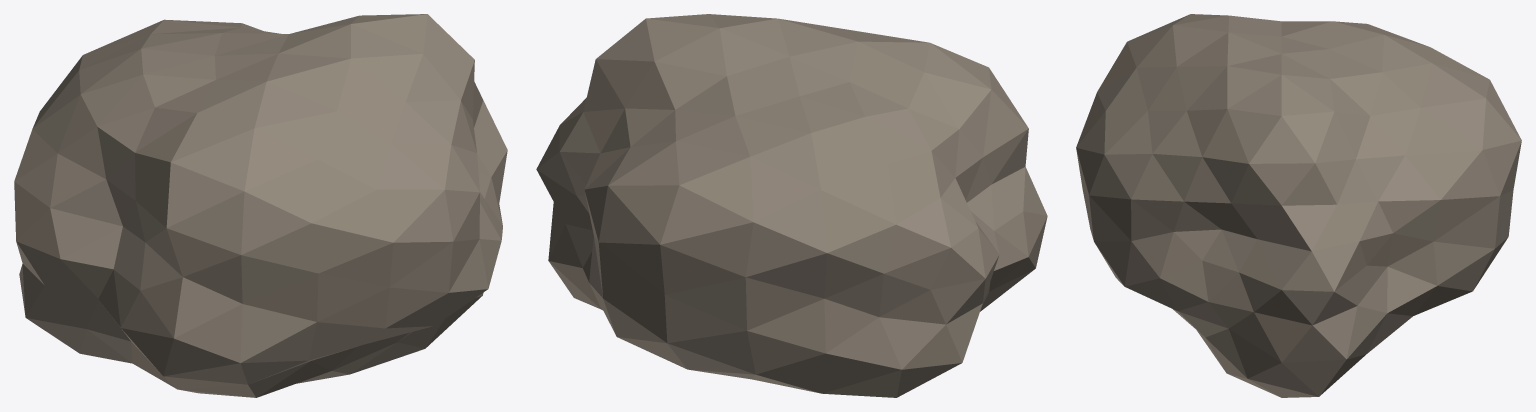
The model's file is rock.obj.
3 renders of one model, left to right at view 1: azimuth 30°, elevation 25°; view 2: azimuth 150°, elevation 25°; view 3: azimuth 270°, elevation 25°, orthographic. The views are drawn at different scales.
Visible parts, largest first — view 1: rock; view 2: rock; view 3: rock.
Boxes of the visible parts, x1=… form: rock: x1=14, y1=14, x2=507, y2=397; rock: x1=536, y1=14, x2=1047, y2=397; rock: x1=1076, y1=14, x2=1521, y2=397.
Size of the model in its own units: 2.45 by 1.62 by 2.27.
